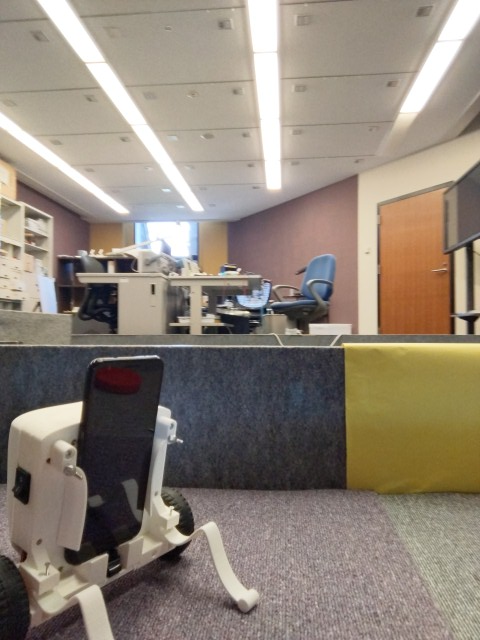f: (1, 348, 263, 640)
